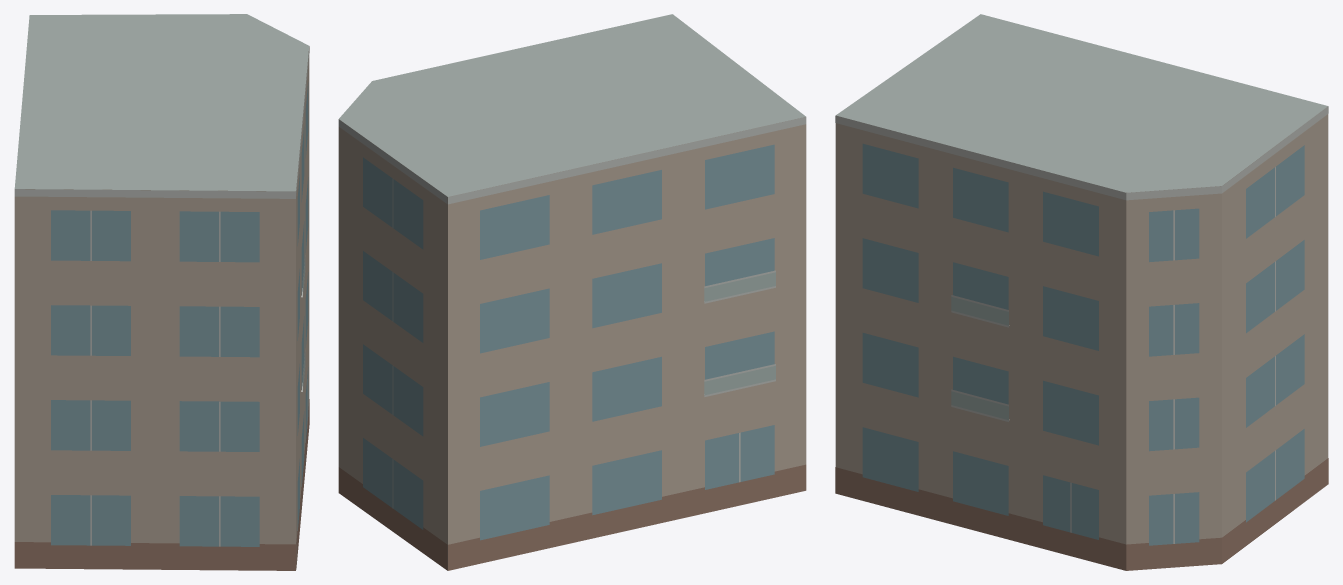
The model's file is survey-upis-32795031.glb.
3 renders of one model, left to right at view 1: azimuth 30°, elevation 25°; view 2: azimuth 150°, elevation 25°; view 3: azimuth 270°, elevation 25°, orthographic.
Visible parts, largest first — view 1: survey-upis-32795031.tmp; view 2: survey-upis-32795031.tmp; view 3: survey-upis-32795031.tmp.
Part boxes in pixels (x1=…): survey-upis-32795031.tmp: x1=14, y1=14, x2=309, y2=570; survey-upis-32795031.tmp: x1=338, y1=14, x2=806, y2=570; survey-upis-32795031.tmp: x1=835, y1=14, x2=1328, y2=570.
Size of the model in its own units: 12.38 by 12.2 by 14.42.
